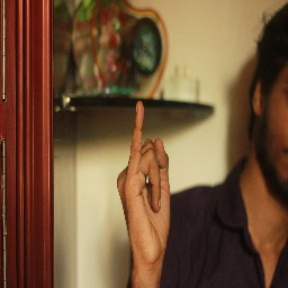I: (114, 99, 178, 251)
